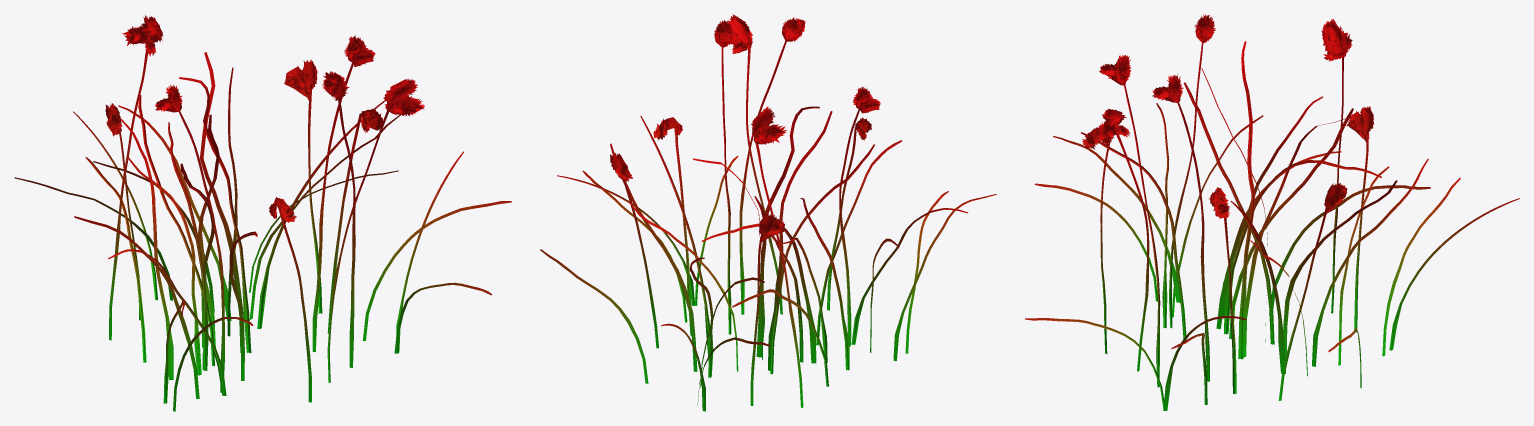
File: Var4_LOD0.fbx
3 views of the same model, side by side, from view 1: azimuth 30°, elevation 25°; view 2: azimuth 150°, elevation 25°; view 3: azimuth 270°, elevation 25° (orthographic). The views are drawn at different scales.
Visible parts, largest first — view 1: _uz05_Var4_LOD0; view 2: _uz05_Var4_LOD0; view 3: _uz05_Var4_LOD0.
Part boxes in pixels (<box>): _uz05_Var4_LOD0: <box>14,15,511,411</box>; _uz05_Var4_LOD0: <box>540,14,996,411</box>; _uz05_Var4_LOD0: <box>1025,14,1519,410</box>.
Size of the model in its own units: 34.41 by 25.91 by 36.37.
